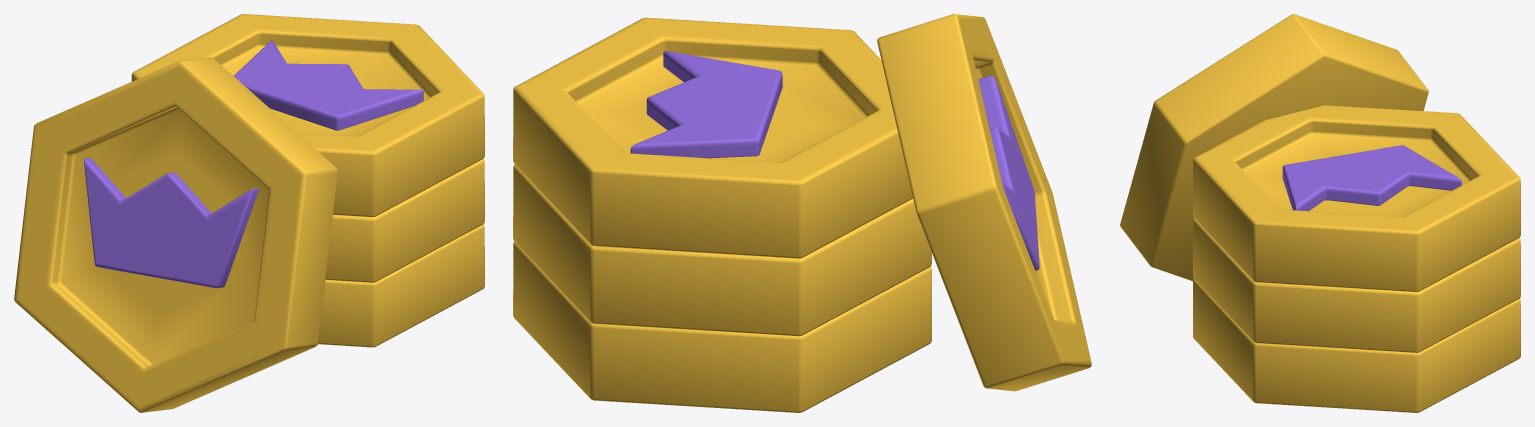
The model's file is coin.glb.
3 views of the same model, side by side, from view 1: azimuth 30°, elevation 25°; view 2: azimuth 150°, elevation 25°; view 3: azimuth 270°, elevation 25° (orthographic). The views are drawn at different scales.
Parts seen in each view (by area): view 1: gold_coin.003, gold_coin, gold_coin.002, gold_coin.001; view 2: gold_coin, gold_coin.003, gold_coin.002, gold_coin.001; view 3: gold_coin, gold_coin.003, gold_coin.001, gold_coin.002.
Part boxes in pixels (left/top/right/bottom): gold_coin.003: left=14, top=57, right=337, bottom=412; gold_coin: left=131, top=14, right=484, bottom=216; gold_coin.002: left=318, top=224, right=484, bottom=347; gold_coin.001: left=325, top=159, right=484, bottom=282; gold_coin: left=513, top=17, right=912, bottom=258; gold_coin.003: left=877, top=14, right=1091, bottom=391; gold_coin.002: left=513, top=242, right=931, bottom=412; gold_coin.001: left=513, top=165, right=931, bottom=336; gold_coin: left=1193, top=105, right=1520, bottom=291; gold_coin.003: left=1120, top=14, right=1428, bottom=281; gold_coin.001: left=1193, top=218, right=1520, bottom=352; gold_coin.002: left=1193, top=279, right=1520, bottom=412.
Bounding box in the file's own units: 0.6896 × 0.4933 × 0.5936.
